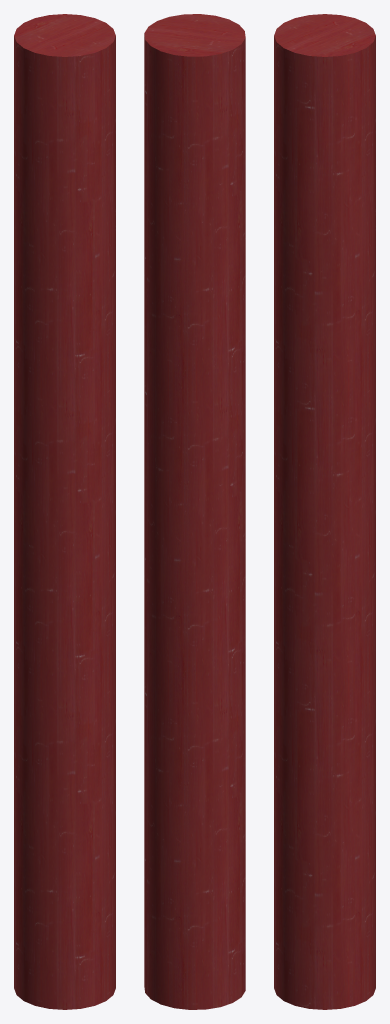
The model's file is SM_P_Wood_1.fbx.
3 views of the same model, side by side, from view 1: azimuth 90°, elevation 25°; view 2: azimuth 210°, elevation 25°; view 3: azimuth 270°, elevation 25° (orthographic).
Visible parts, largest first — view 1: SM_P_Wood_1; view 2: SM_P_Wood_1; view 3: SM_P_Wood_1.
Part boxes in pixels (x1,y1,x2,y2): SM_P_Wood_1: [14, 14, 115, 1009]; SM_P_Wood_1: [144, 14, 245, 1009]; SM_P_Wood_1: [274, 14, 375, 1009].
Bounding box in the file's own units: 48.22 × 48.22 × 498.
1 material, 1 textured.
